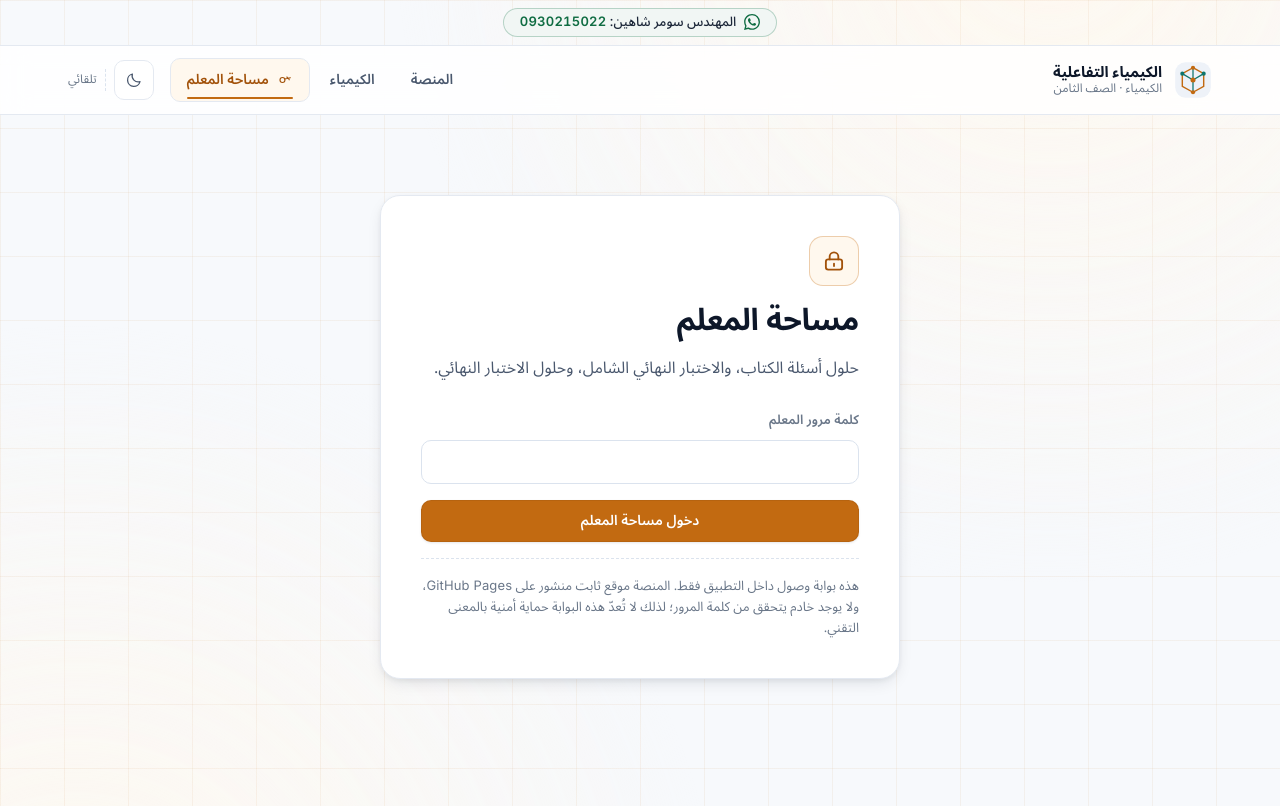
Test case: teacher area routes › exposes the three sections on the teacher home and links to them
Type "somer173" into the password field labelled "كلمة مرور المعلم".
click(640, 462); type("somer173")  # box x1=421 y1=440 x2=859 y2=484
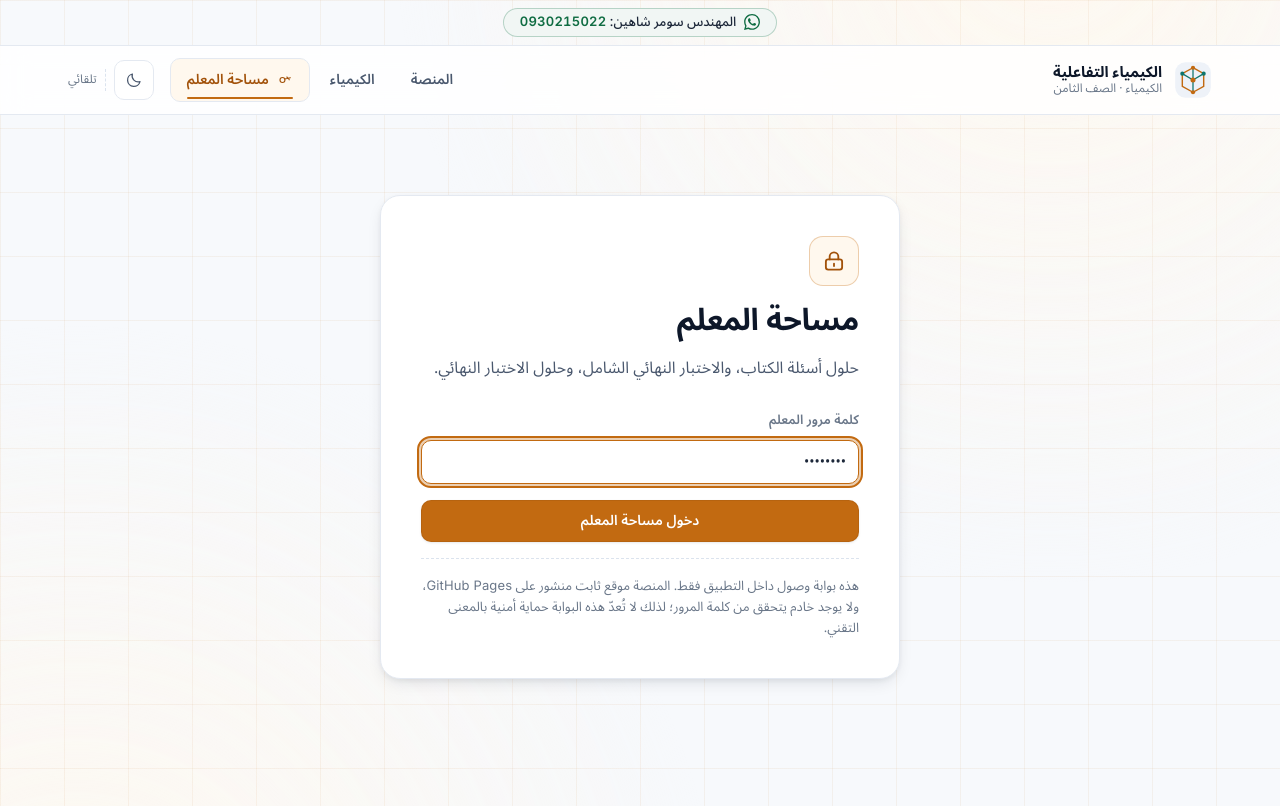
Click the button "دخول مساحة المعلم".
click(640, 521)  # box x1=421 y1=500 x2=859 y2=542
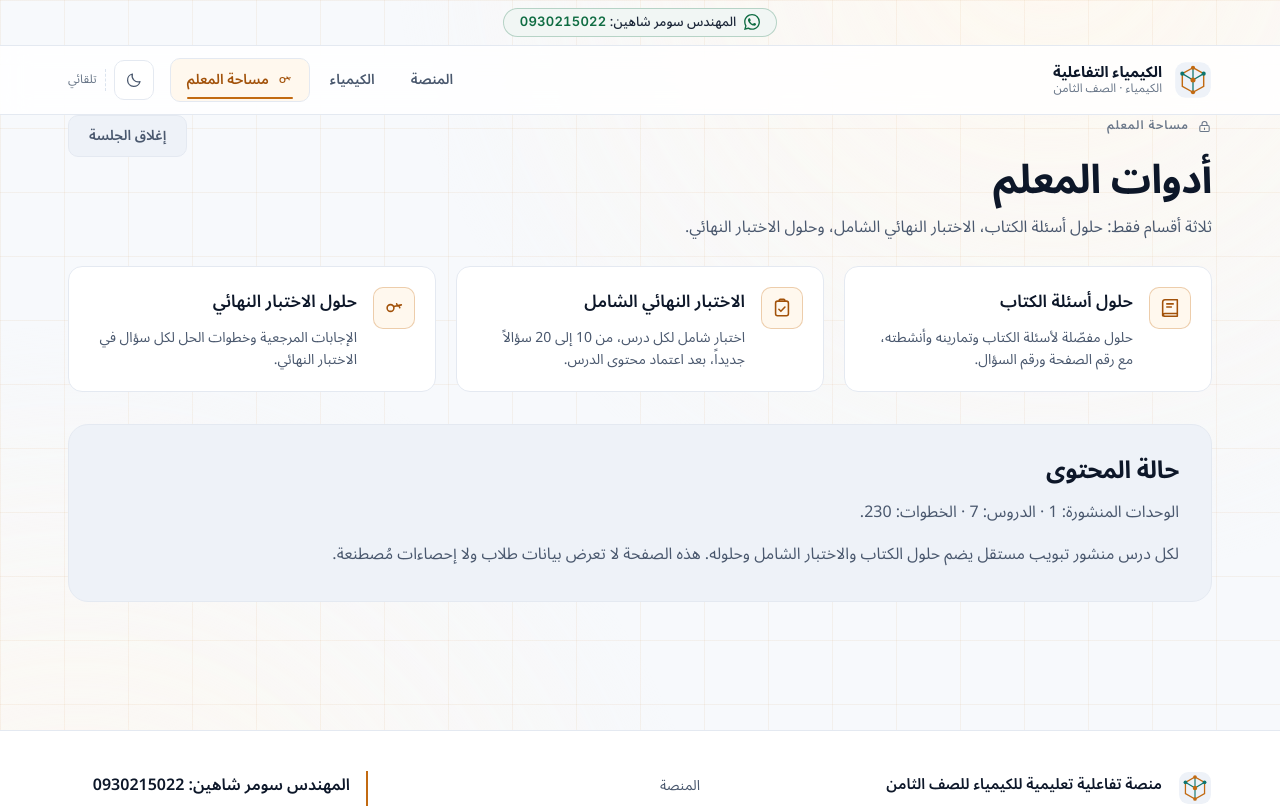
Expected: the heading "أدوات المعلم" is shown, x1=993 y1=138 x2=1212 y2=222
Expected: the number of list items with class "teacher-section" is 3, x1=844 y1=266 x2=1212 y2=392; x1=456 y1=266 x2=824 y2=392; x1=68 y1=266 x2=436 y2=392
